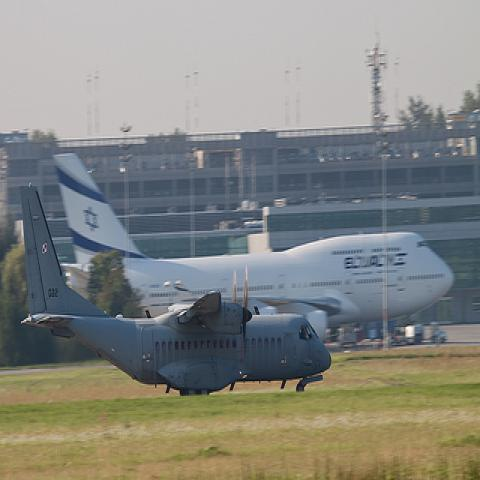truck: (429, 322, 447, 342)
